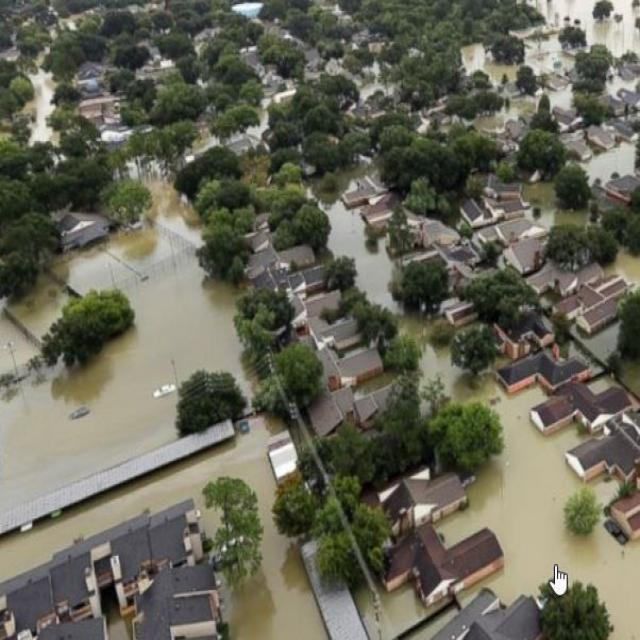flood: (326, 204, 640, 640), (0, 174, 244, 513), (0, 416, 329, 640), (438, 386, 640, 640), (468, 0, 640, 85), (354, 587, 426, 640), (25, 69, 55, 143)
house: (371, 466, 473, 540), (138, 560, 227, 640), (412, 521, 502, 595), (530, 382, 634, 437), (496, 351, 592, 394), (458, 590, 540, 640), (563, 430, 640, 480), (334, 346, 386, 392), (52, 212, 111, 250)
